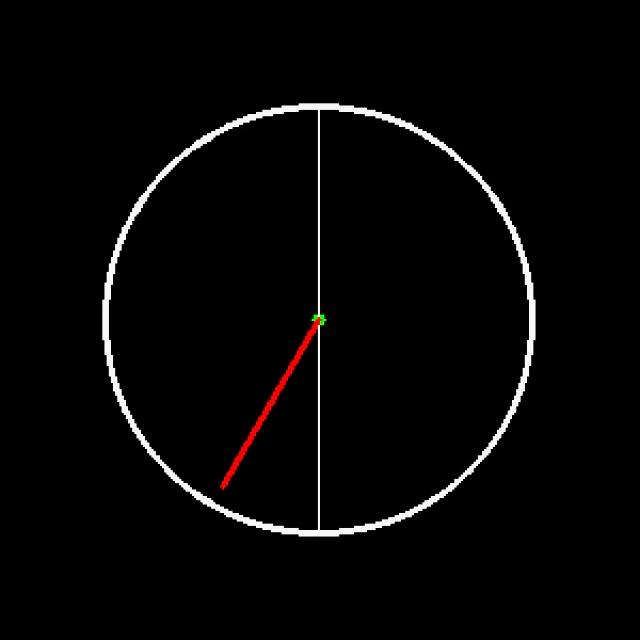Needle_Tip: (211, 419, 256, 512)
Needle_base: (289, 308, 347, 338)
